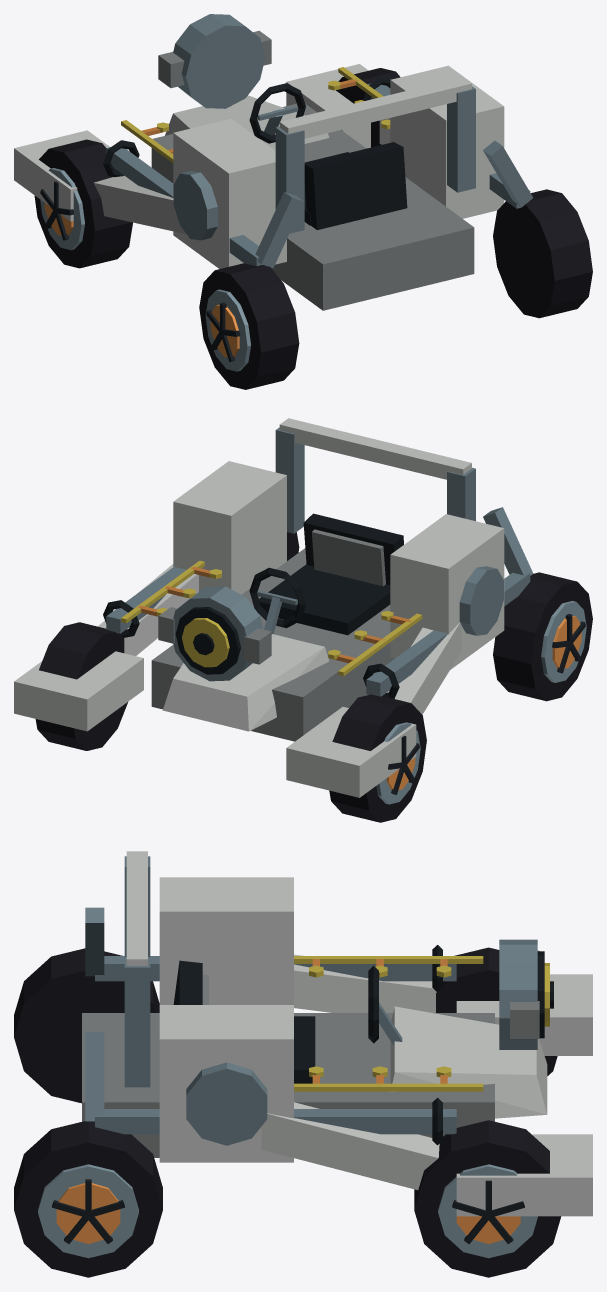
File: kart.glb
3 renders of one model, top to bottom at view 1: azimuth 30°, elevation 25°; view 2: azimuth 150°, elevation 25°; view 3: azimuth 270°, elevation 25°, orthographic. The views are drawn at different scales.
Parts seen in each view (by area): view 1: identity-mech-mech-articulated-limbs-and-open-harness, wheel-rear-left, wheel-rear-right, identity-mech-driver-cockpit, wheel-front-left, identity-mech-motif-optic, identity-mech-motif-pipes, identity-mech-motif-circuit, wheel-front-right; view 2: identity-mech-mech-articulated-limbs-and-open-harness, identity-mech-driver-cockpit, wheel-rear-left, identity-mech-motif-optic, wheel-front-left, identity-mech-motif-pipes, wheel-front-right, identity-mech-motif-circuit; view 3: identity-mech-mech-articulated-limbs-and-open-harness, wheel-rear-right, wheel-front-right, identity-mech-motif-pipes, wheel-rear-left, identity-mech-motif-optic, identity-mech-motif-circuit, identity-mech-driver-cockpit, wheel-front-left.
Part boxes in pixels (left/top/right/bottom): identity-mech-mech-articulated-limbs-and-open-harness: left=14, top=64, right=504, bottom=310; wheel-rear-left: left=199, top=263, right=299, bottom=389; wheel-rear-right: left=493, top=189, right=592, bottom=318; identity-mech-driver-cockpit: left=249, top=83, right=407, bottom=230; wheel-front-left: left=34, top=139, right=132, bottom=268; identity-mech-motif-optic: left=158, top=14, right=271, bottom=108; identity-mech-motif-pipes: left=103, top=76, right=533, bottom=268; identity-mech-motif-circuit: left=121, top=67, right=390, bottom=162; wheel-front-right: left=336, top=68, right=400, bottom=147; identity-mech-mech-articulated-limbs-and-open-harness: left=14, top=418, right=504, bottom=797; identity-mech-driver-cockpit: left=249, top=513, right=403, bottom=635; wheel-rear-left: left=493, top=572, right=592, bottom=701; identity-mech-motif-optic: left=158, top=586, right=271, bottom=681; wheel-front-left: left=329, top=694, right=426, bottom=822; identity-mech-motif-pipes: left=103, top=507, right=533, bottom=698; wheel-front-right: left=35, top=622, right=127, bottom=750; identity-mech-motif-circuit: left=121, top=560, right=422, bottom=676; identity-mech-mech-articulated-limbs-and-open-harness: left=82, top=851, right=592, bottom=1216; wheel-rear-right: left=14, top=1121, right=162, bottom=1277; wheel-front-right: left=414, top=1120, right=561, bottom=1277; identity-mech-motif-pipes: left=85, top=907, right=456, bottom=1145; wheel-rear-left: left=14, top=948, right=159, bottom=1103; identity-mech-motif-optic: left=499, top=939, right=553, bottom=1049; identity-mech-motif-circuit: left=294, top=956, right=483, bottom=1091; identity-mech-driver-cockpit: left=173, top=960, right=402, bottom=1083; wheel-front-left: left=436, top=947, right=557, bottom=1075.
Bounding box in the file's own units: 2.29 × 1.42 × 2.72.
